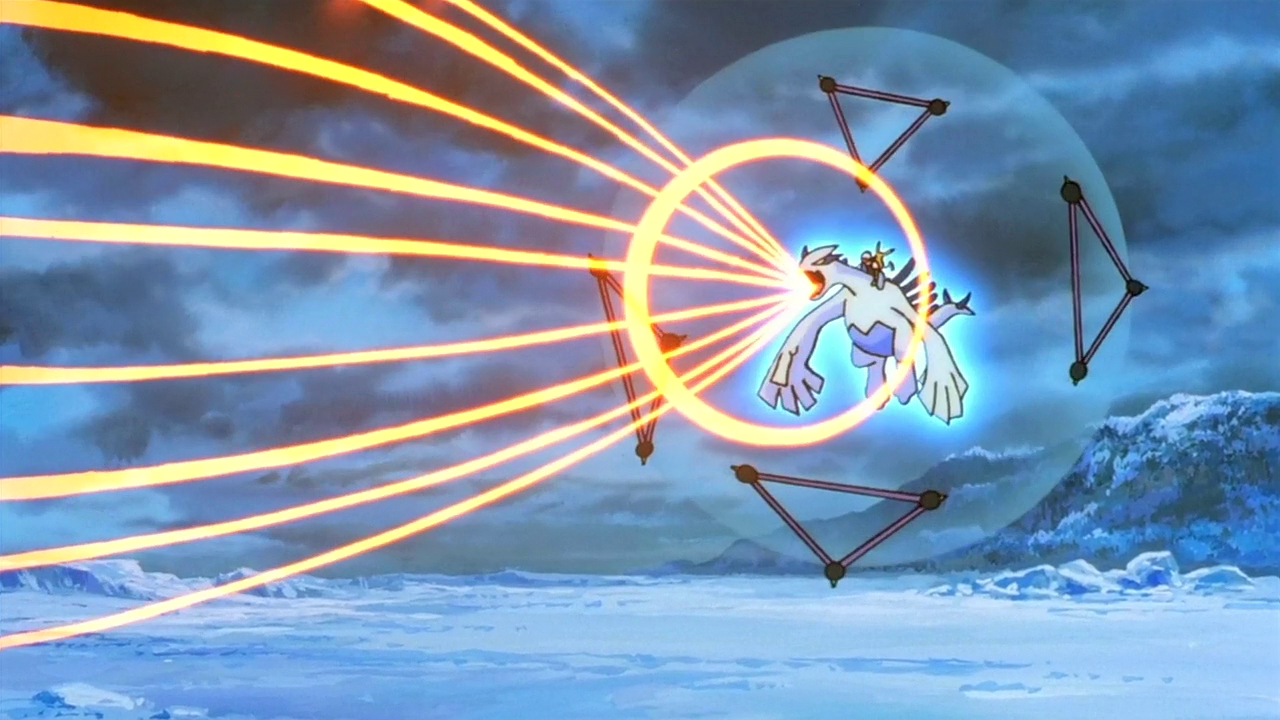lugia: (782, 244, 854, 303)
